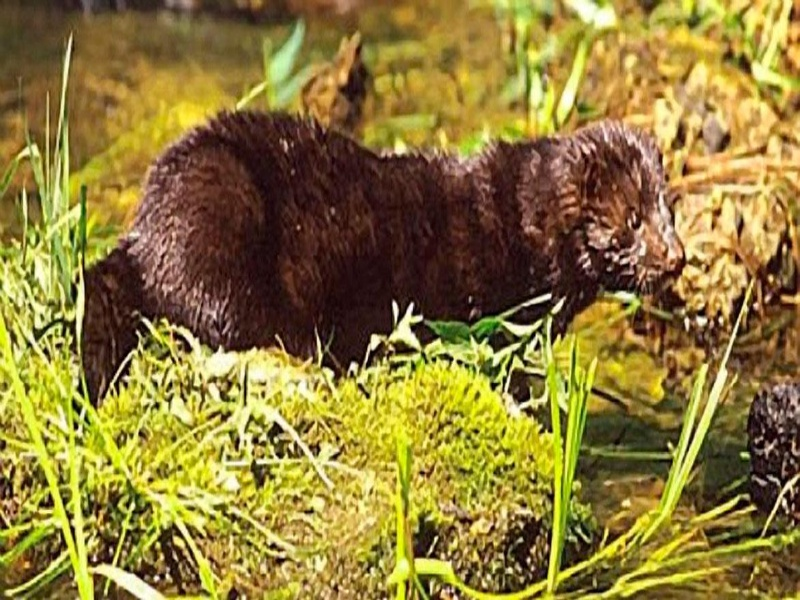minkish: (57, 116, 688, 411)
